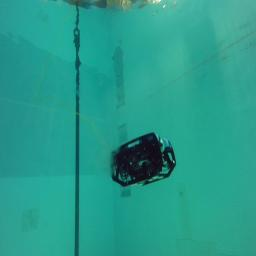Side: (109, 132, 176, 188)
